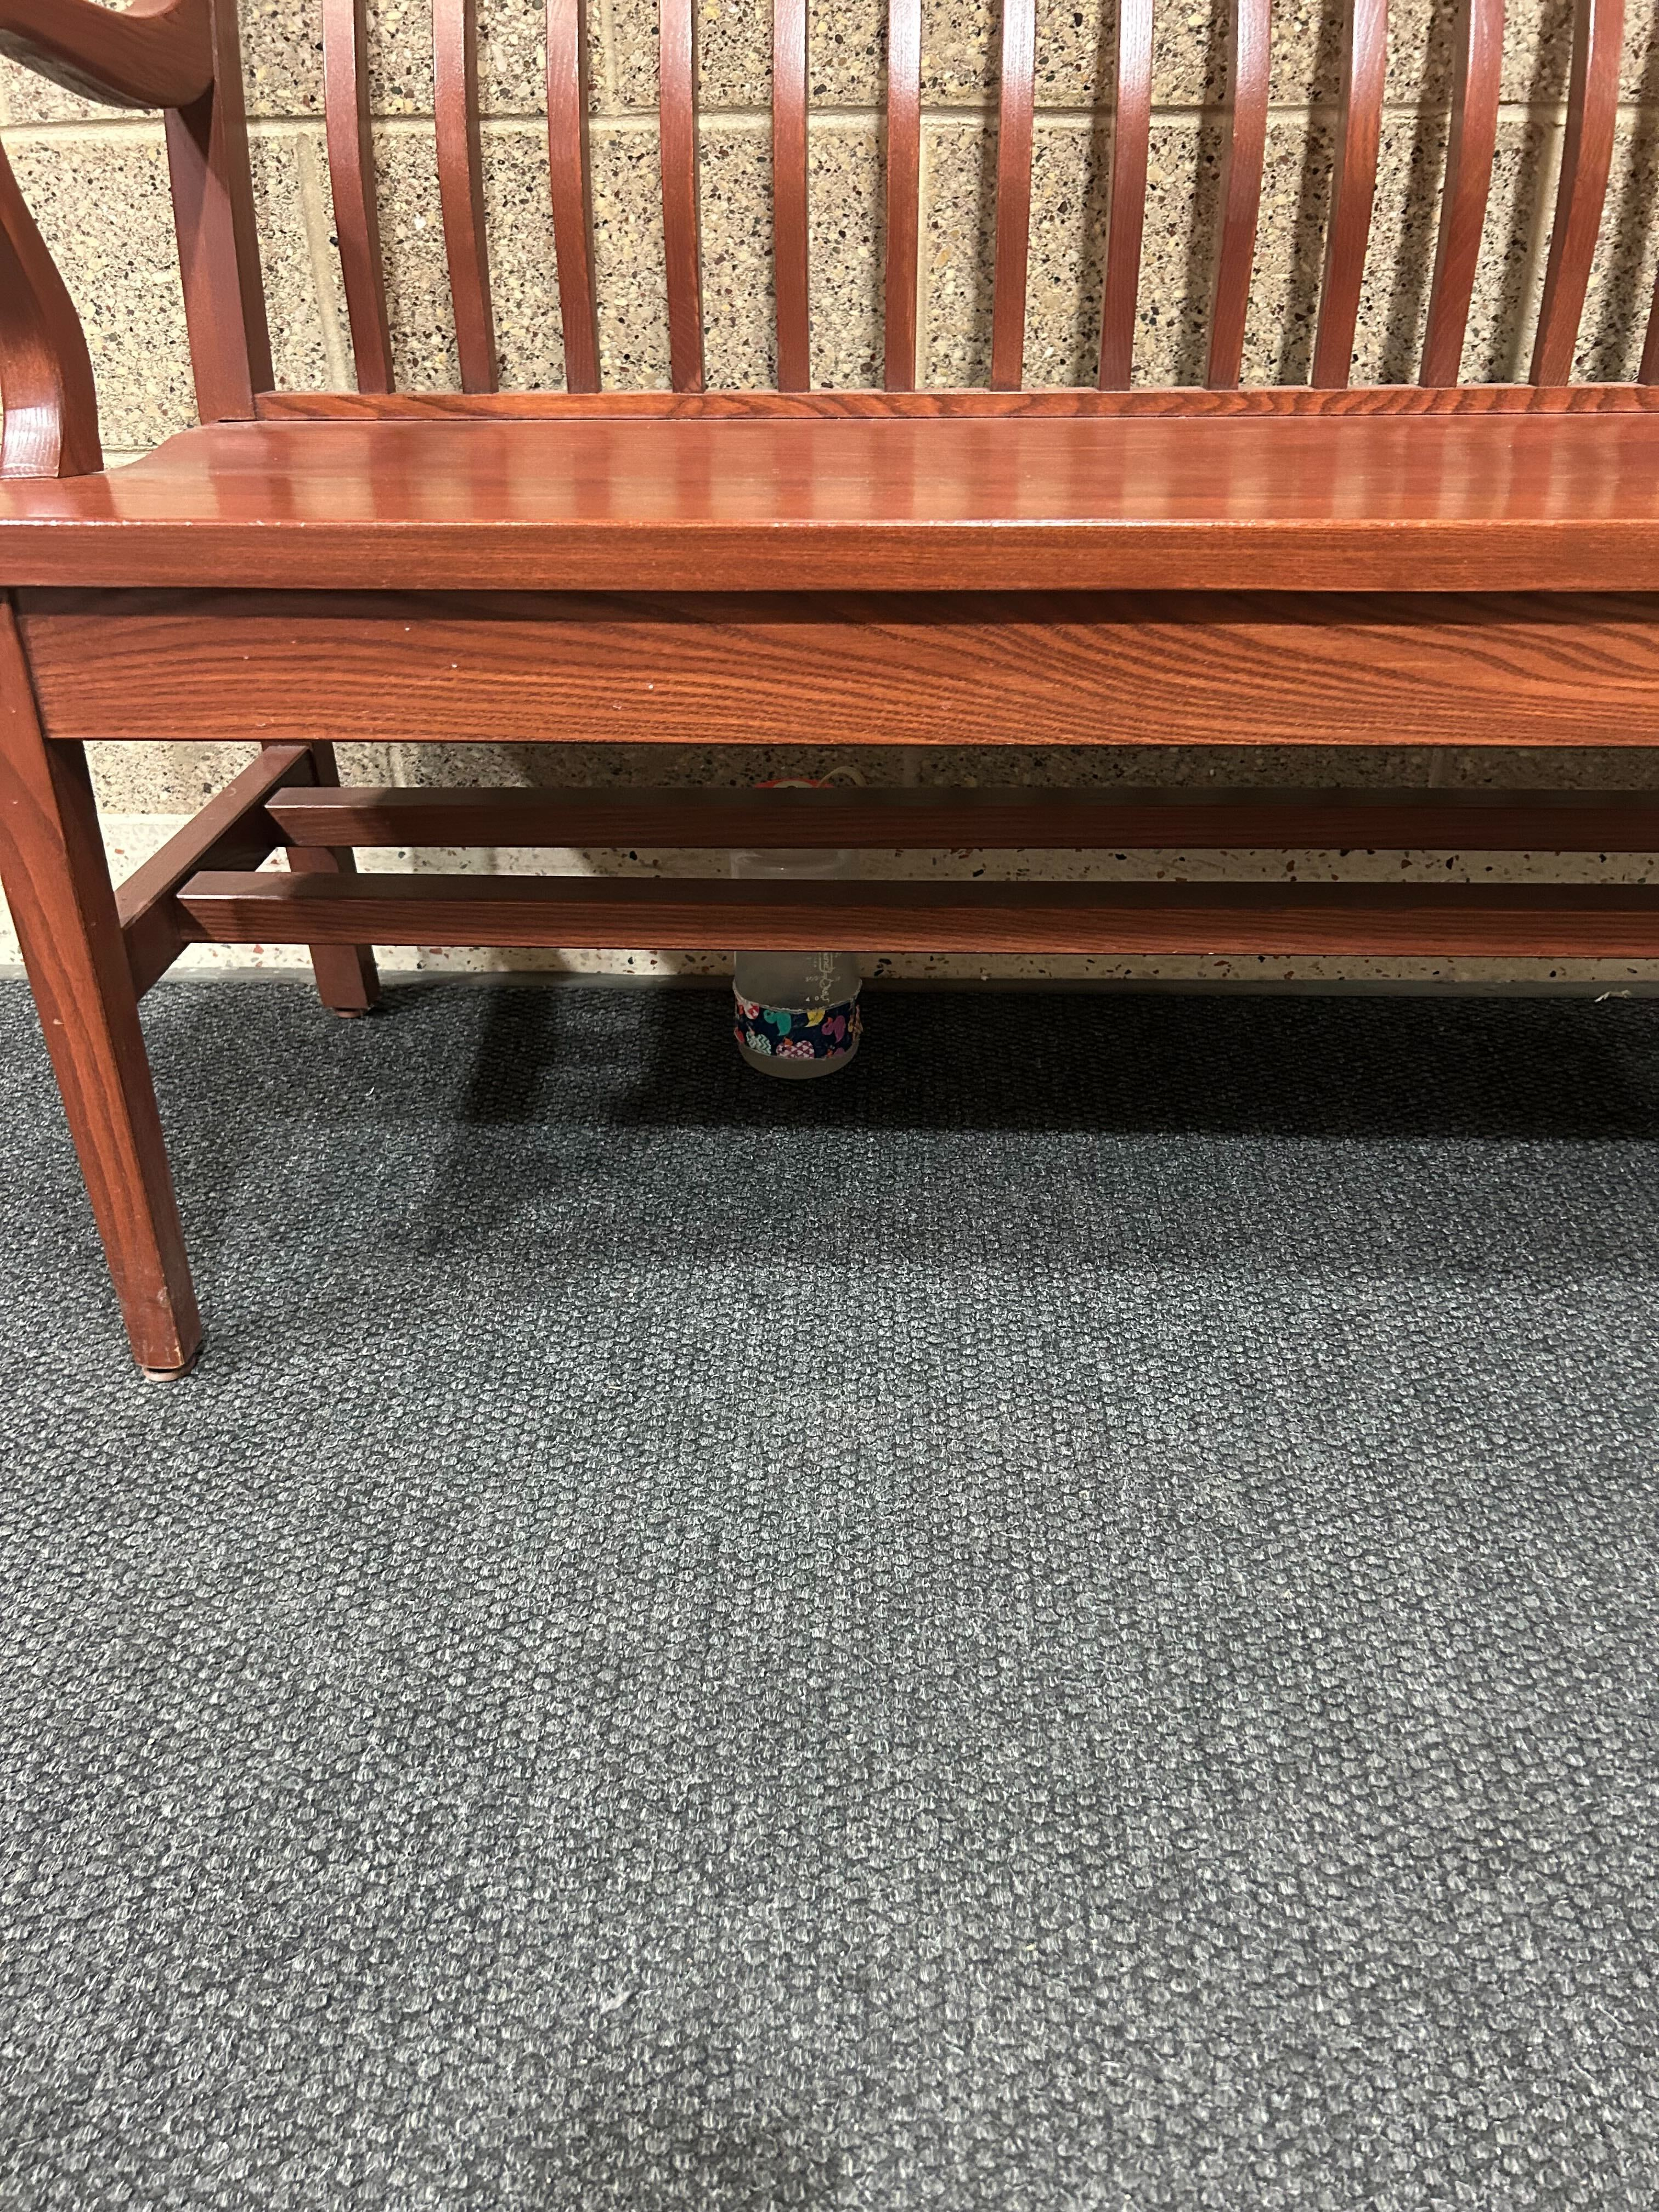bottle: (727, 754, 870, 1090)
